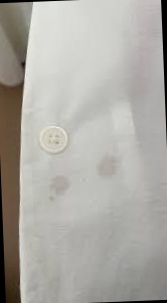wine: (40, 180, 71, 204), (92, 151, 119, 176)
